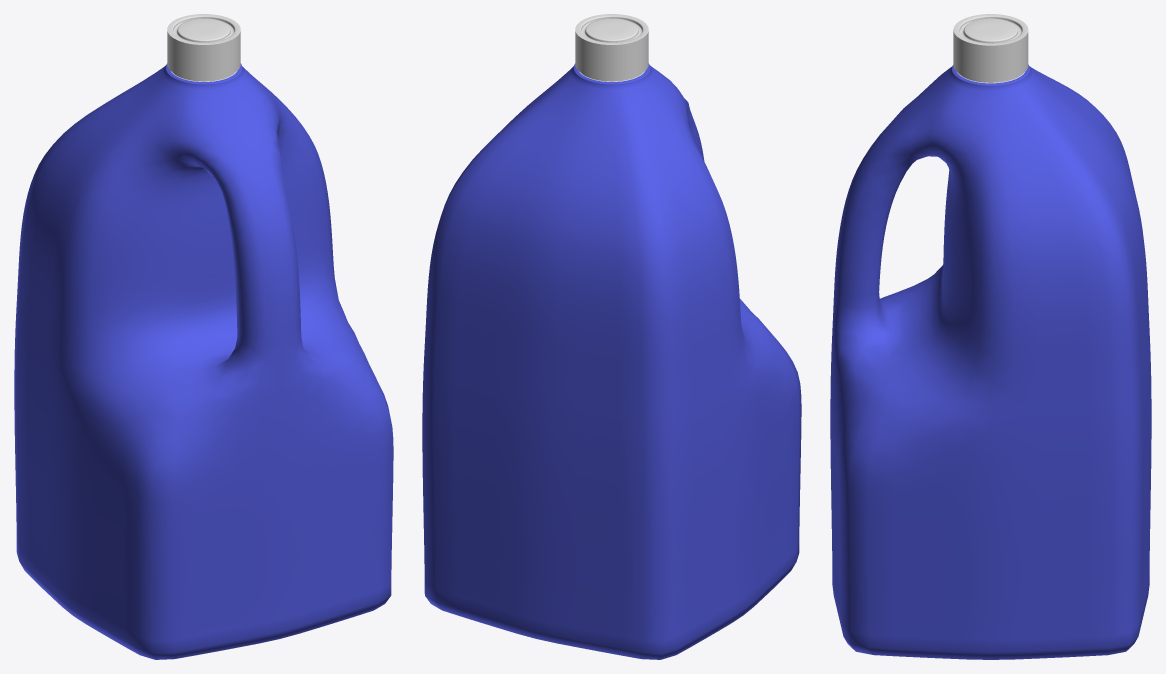
Rendered from BleachContainer.fbx.
3 views of the same model, side by side, from view 1: azimuth 30°, elevation 25°; view 2: azimuth 150°, elevation 25°; view 3: azimuth 270°, elevation 25° (orthographic).
Visible parts, largest first — view 1: Bleach_Container, Bleach_Cap; view 2: Bleach_Container, Bleach_Cap; view 3: Bleach_Container, Bleach_Cap.
Part boxes in pixels (x1=…): Bleach_Container: x1=14, y1=63, x2=393, y2=659; Bleach_Cap: x1=167, y1=14, x2=240, y2=81; Bleach_Container: x1=422, y1=63, x2=801, y2=659; Bleach_Cap: x1=575, y1=14, x2=648, y2=81; Bleach_Container: x1=830, y1=64, x2=1151, y2=659; Bleach_Cap: x1=953, y1=14, x2=1028, y2=83.
Size of the model in its own units: 102 by 199 by 102.
